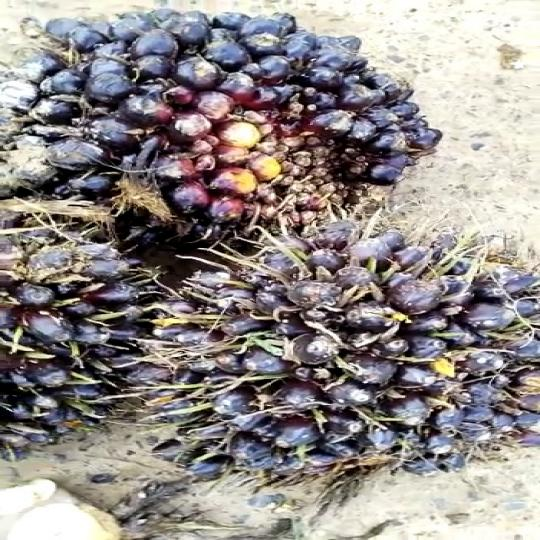mentah: (132, 226, 540, 486), (0, 0, 393, 240)
